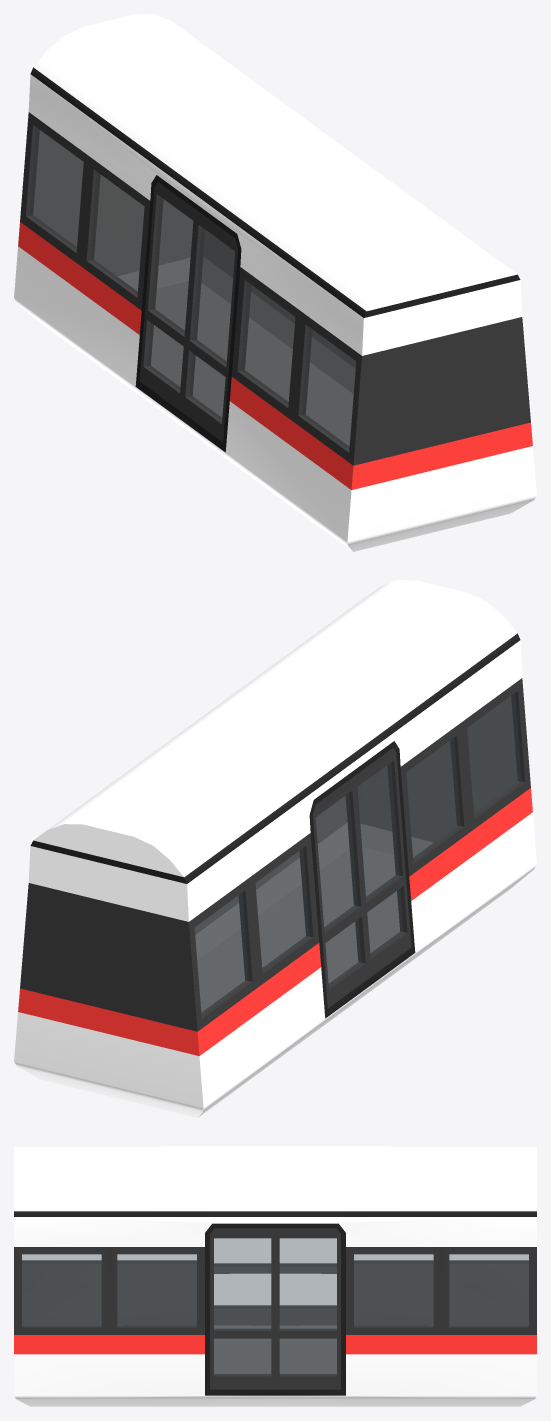
Rendered from tram_body_001.glb.
The picture shows the model from 3 angles, top to bottom: view 1: azimuth 30°, elevation 25°; view 2: azimuth 150°, elevation 25°; view 3: azimuth 270°, elevation 25°; orthographic projection. The views are drawn at different scales.
Parts seen in each view (by area): view 1: tram_body_001; view 2: tram_body_001; view 3: tram_body_001.
Boxes of the visible parts, left/top/right/bottom form: tram_body_001: left=14, top=14, right=536, bottom=551; tram_body_001: left=14, top=580, right=536, bottom=1117; tram_body_001: left=14, top=1146, right=536, bottom=1406.
Size of the model in its own units: 2.4 by 3.34 by 7.32.
2 materials, 2 textured.
